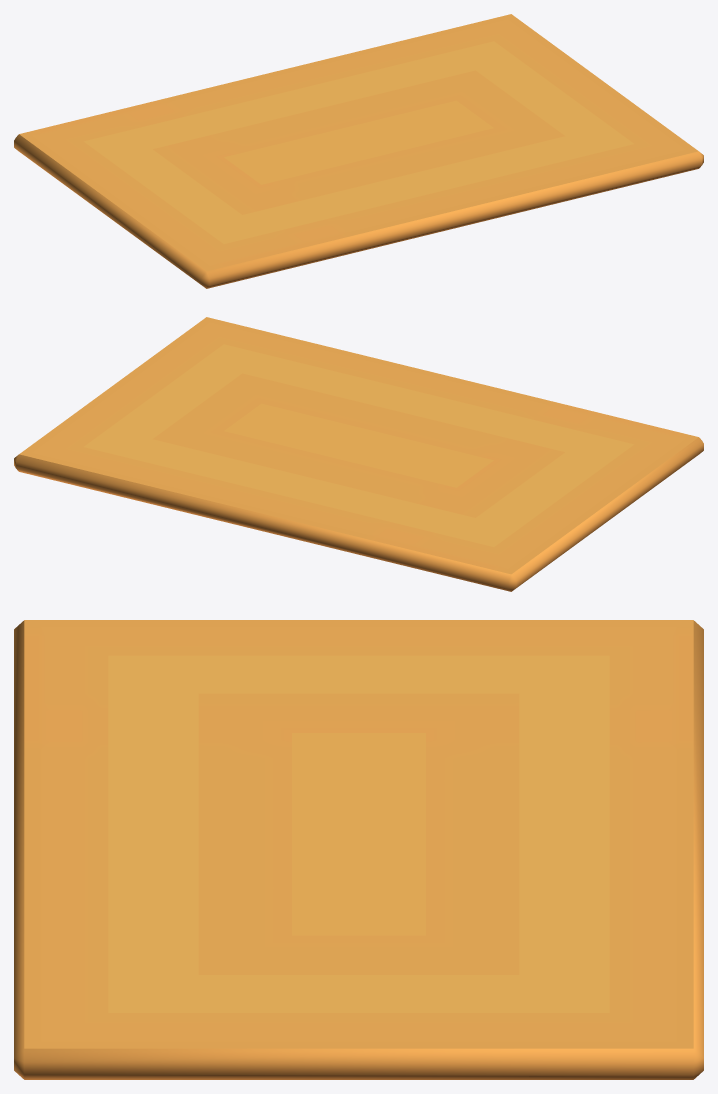
File: kaykit-furniture-bits-rug-rectangle-stripes-a.glb
3 views of the same model, one above another, from view 1: azimuth 30°, elevation 25°; view 2: azimuth 150°, elevation 25°; view 3: azimuth 270°, elevation 25° (orthographic). The views are drawn at different scales.
Visible parts, largest first — view 1: rug_rectangle_stripes_A; view 2: rug_rectangle_stripes_A; view 3: rug_rectangle_stripes_A.
Boxes of the visible parts, box(x1,y1,x2,y2) form: rug_rectangle_stripes_A: box(14, 14, 703, 288); rug_rectangle_stripes_A: box(14, 317, 703, 591); rug_rectangle_stripes_A: box(14, 620, 703, 1079).
Bounding box in the file's own units: 3 × 0.1 × 2.
1 material, 1 textured.
